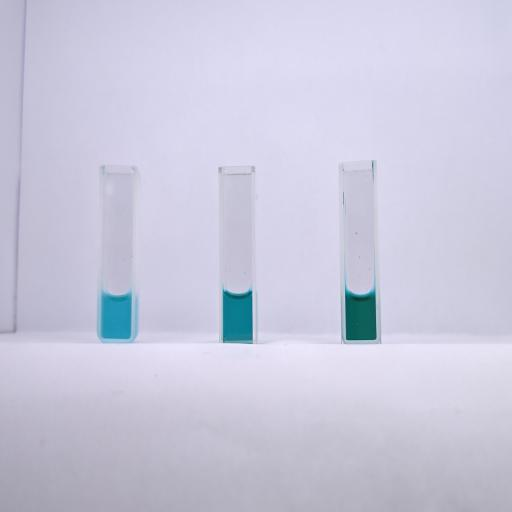cuvette: (337, 158, 383, 346), (96, 163, 140, 344), (216, 164, 259, 346)
liquid: (346, 289, 376, 340), (223, 290, 252, 340), (102, 292, 132, 340)
